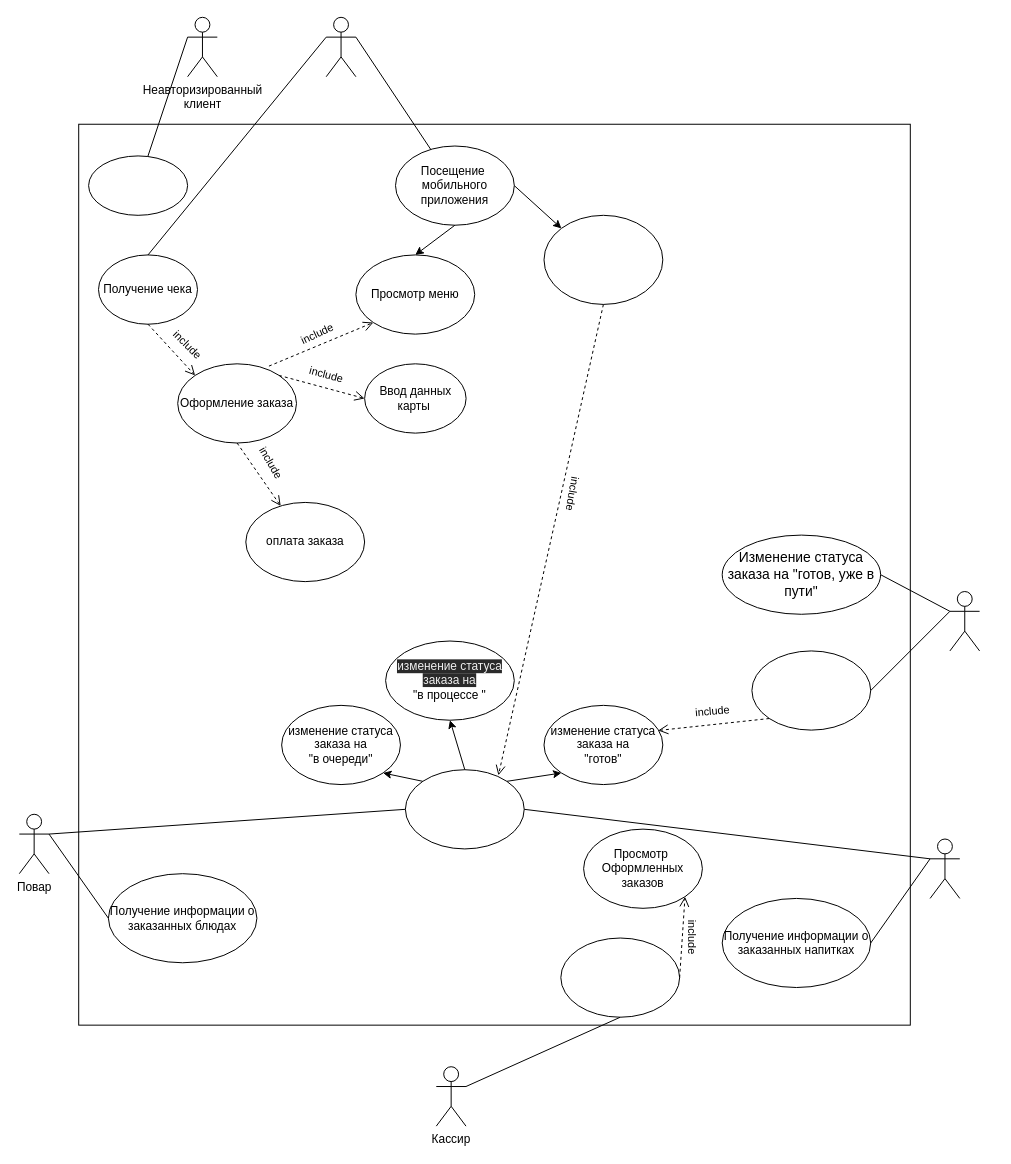
Some shapes in this 1011 by 1164 pixel diagram are drawn without their labels. Here are the shapes that lost their labels. From the top down, the box of each, then its label:
(325, 16, 356, 77): Авторизированный клиент
(88, 155, 188, 215): Авторизация
(543, 214, 663, 304): Проверка статусов готовности заказов и их наличие
(949, 591, 980, 651): Официант
(751, 650, 871, 730): Получение информации о готовых заказах
(404, 769, 524, 849): изменение статуса заказа
(929, 838, 960, 898): Бариста
(560, 937, 680, 1017): передача информации о оформленых заказах
